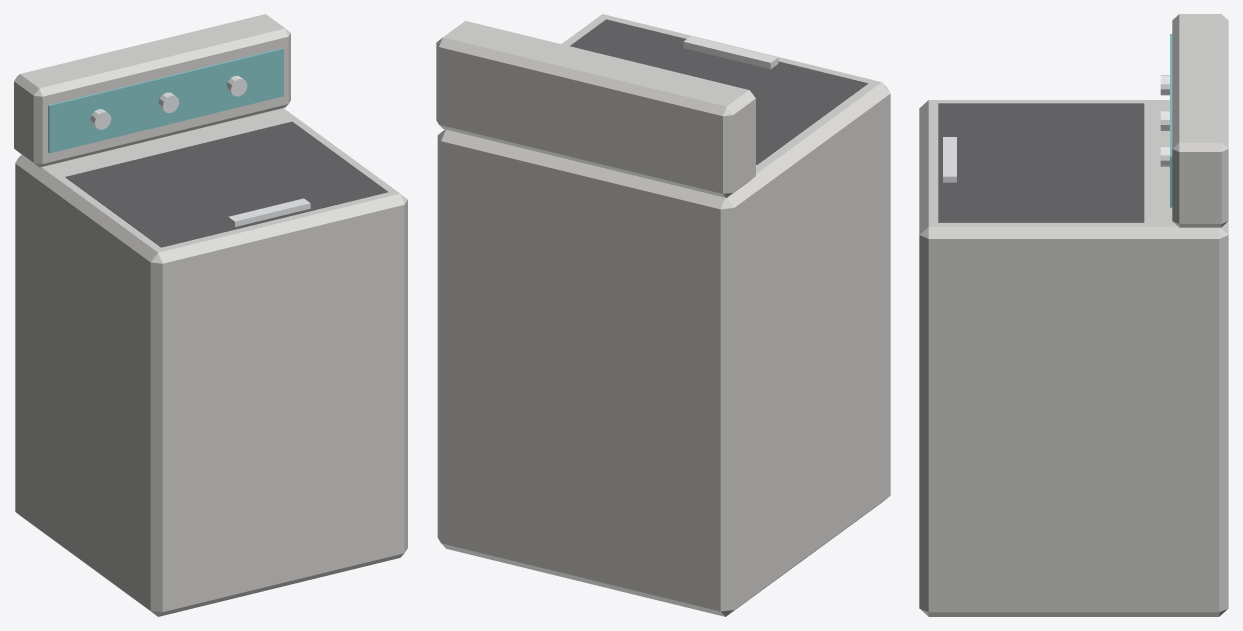
The model's file is washer.glb.
3 renders of one model, left to right at view 1: azimuth 30°, elevation 25°; view 2: azimuth 150°, elevation 25°; view 3: azimuth 270°, elevation 25°, orthographic. The views are drawn at different scales.
Visible parts, largest first — view 1: washer_enamel, washer_dark, washer_accent2, washer_chrome; view 2: washer_enamel, washer_dark, washer_chrome; view 3: washer_enamel, washer_dark, washer_chrome, washer_accent2.
Part boxes in pixels (bbox=[...]): washer_enamel: bbox=[14, 14, 407, 616]; washer_dark: bbox=[65, 121, 387, 247]; washer_accent2: bbox=[48, 48, 283, 153]; washer_chrome: bbox=[90, 76, 310, 226]; washer_enamel: bbox=[436, 14, 890, 616]; washer_dark: bbox=[570, 19, 867, 164]; washer_chrome: bbox=[683, 36, 778, 69]; washer_enamel: bbox=[919, 14, 1228, 616]; washer_dark: bbox=[938, 103, 1144, 222]; washer_chrome: bbox=[943, 75, 1169, 182]; washer_accent2: bbox=[1170, 34, 1172, 207].
Size of the model in its own units: 0.68 by 1.12 by 0.66.
